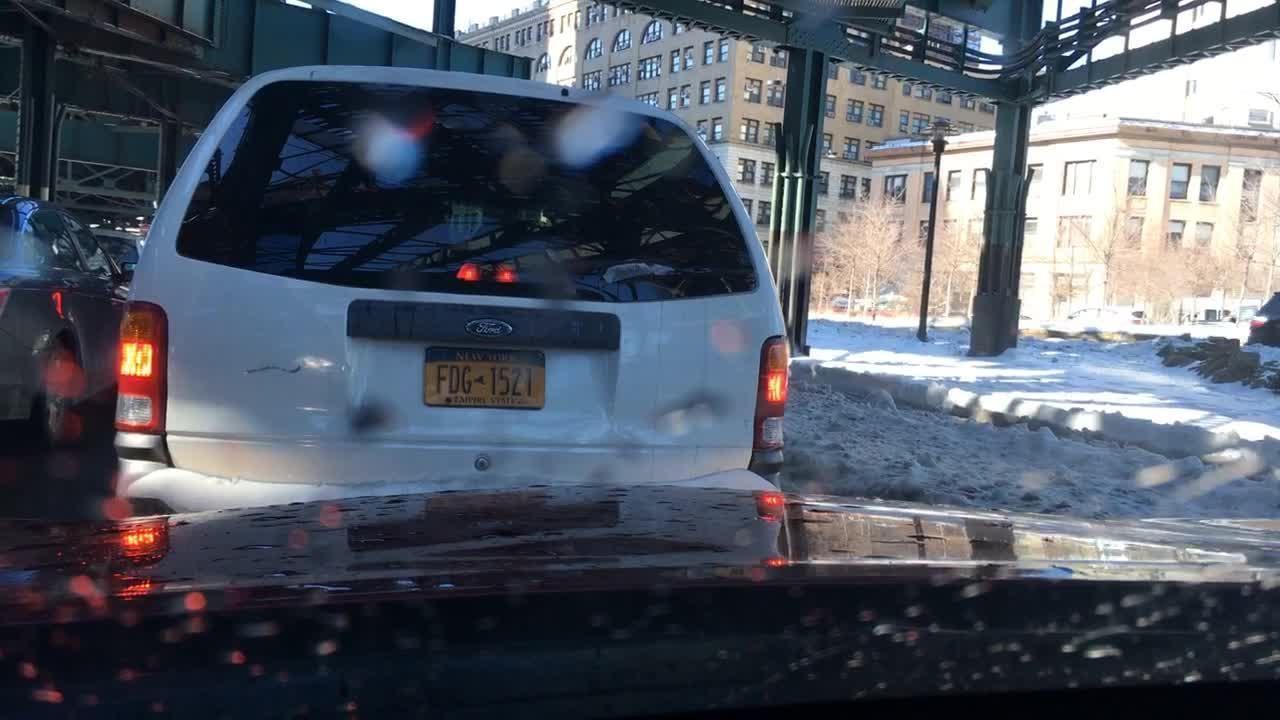ford: (460, 310, 522, 350)
